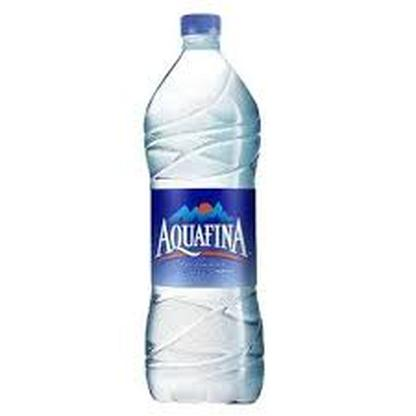plastic bottle: (143, 11, 264, 406)
